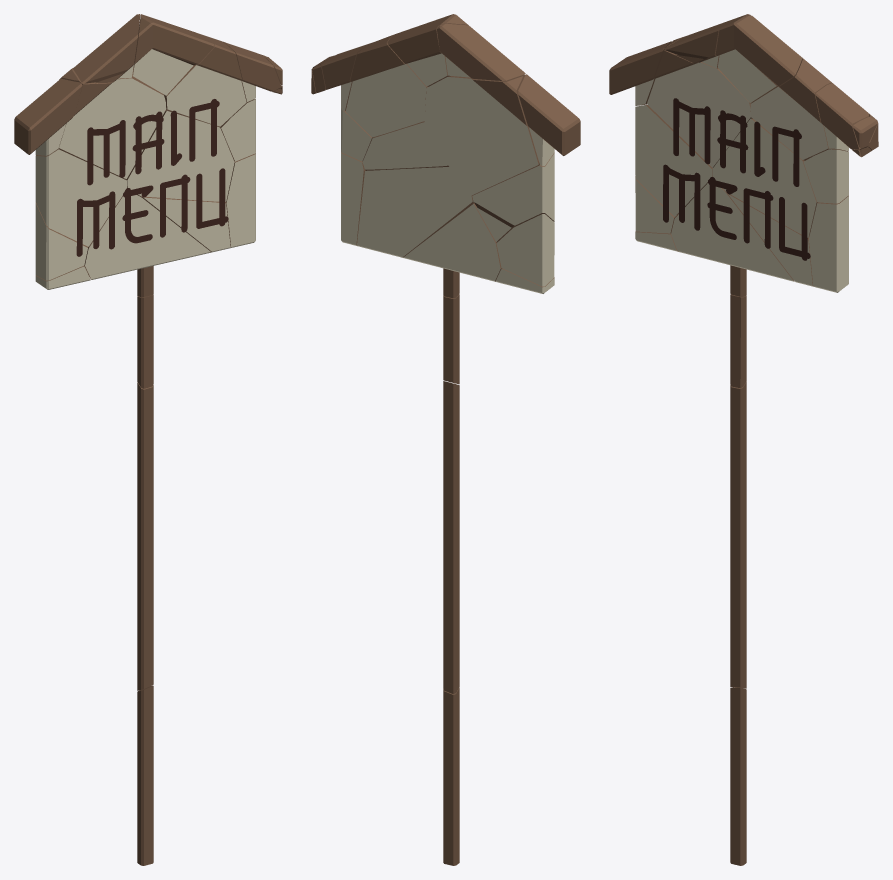
Rendered from bsign-mainmenu.fbx.
The picture shows the model from 3 angles, left to right: view 1: azimuth 30°, elevation 25°; view 2: azimuth 150°, elevation 25°; view 3: azimuth 330°, elevation 25°; orthographic projection.
Visible parts, largest first — view 1: sign_mainmenu01.006, sign_mainmenu01.001_cell.028, sign_mainmenu01.001_cell.026, sign_mainmenu01.001_cell.025, sign_mainmenu01.001_cell.017, sign_mainmenu01.001_cell.039, sign_mainmenu01.001_cell.042, sign_mainmenu01.001_cell.027, sign_mainmenu01.001_cell.043, sign_mainmenu01.001_cell.010, sign_mainmenu01.001_cell.012, sign_mainmenu01.001_cell.031 (+5 smaller); view 2: sign_mainmenu01.001_cell.028, sign_mainmenu01.001_cell.027, sign_mainmenu01.001_cell.039, sign_mainmenu01.001_cell.017, sign_mainmenu01.001_cell.026, sign_mainmenu01.001_cell.025, sign_mainmenu01.001_cell.043, sign_mainmenu01.001_cell.012, sign_mainmenu01.001_cell.009, sign_mainmenu01.001_cell.010, sign_mainmenu01.006, sign_mainmenu01.001_cell.042 (+5 smaller); view 3: sign_mainmenu01.006, sign_mainmenu01.001_cell.028, sign_mainmenu01.001_cell.026, sign_mainmenu01.001_cell.025, sign_mainmenu01.001_cell.017, sign_mainmenu01.001_cell.042, sign_mainmenu01.001_cell.039, sign_mainmenu01.001_cell.027, sign_mainmenu01.001_cell.031, sign_mainmenu01.001_cell.010, sign_mainmenu01.001_cell.023, sign_mainmenu01.001_cell.043 (+5 smaller).
Boxes of the visible parts, bbox=[...] form: sign_mainmenu01.006: bbox=[126, 99, 234, 201]; sign_mainmenu01.001_cell.028: bbox=[57, 67, 166, 185]; sign_mainmenu01.001_cell.026: bbox=[84, 185, 210, 297]; sign_mainmenu01.001_cell.025: bbox=[35, 149, 126, 256]; sign_mainmenu01.001_cell.017: bbox=[137, 382, 153, 690]; sign_mainmenu01.001_cell.039: bbox=[163, 31, 246, 126]; sign_mainmenu01.001_cell.042: bbox=[133, 14, 214, 95]; sign_mainmenu01.001_cell.027: bbox=[137, 168, 230, 252]; sign_mainmenu01.001_cell.043: bbox=[14, 78, 82, 155]; sign_mainmenu01.001_cell.010: bbox=[137, 685, 153, 865]; sign_mainmenu01.001_cell.012: bbox=[73, 14, 140, 83]; sign_mainmenu01.001_cell.031: bbox=[226, 153, 255, 247]; sign_mainmenu01.001_cell.028: bbox=[424, 74, 539, 195]; sign_mainmenu01.001_cell.027: bbox=[357, 167, 472, 257]; sign_mainmenu01.001_cell.039: bbox=[345, 35, 427, 137]; sign_mainmenu01.001_cell.017: bbox=[443, 381, 459, 694]; sign_mainmenu01.001_cell.026: bbox=[401, 200, 501, 298]; sign_mainmenu01.001_cell.025: bbox=[472, 152, 554, 229]; sign_mainmenu01.001_cell.043: bbox=[518, 74, 580, 166]; sign_mainmenu01.001_cell.012: bbox=[437, 23, 525, 80]; sign_mainmenu01.001_cell.009: bbox=[496, 214, 554, 286]; sign_mainmenu01.001_cell.010: bbox=[443, 687, 459, 865]; sign_mainmenu01.006: bbox=[362, 121, 448, 170]; sign_mainmenu01.001_cell.042: bbox=[387, 14, 468, 86]; sign_mainmenu01.006: bbox=[712, 110, 817, 237]; sign_mainmenu01.001_cell.028: bbox=[647, 37, 752, 167]; sign_mainmenu01.001_cell.026: bbox=[671, 177, 794, 296]; sign_mainmenu01.001_cell.025: bbox=[635, 105, 712, 230]; sign_mainmenu01.001_cell.017: bbox=[730, 381, 746, 688]; sign_mainmenu01.001_cell.042: bbox=[715, 15, 802, 102]; sign_mainmenu01.001_cell.039: bbox=[750, 58, 833, 160]; sign_mainmenu01.001_cell.027: bbox=[728, 188, 814, 286]; sign_mainmenu01.001_cell.031: bbox=[809, 195, 848, 292]; sign_mainmenu01.001_cell.010: bbox=[730, 687, 746, 865]; sign_mainmenu01.001_cell.023: bbox=[815, 83, 868, 151]; sign_mainmenu01.001_cell.043: bbox=[609, 41, 671, 105].
Size of the model in its own units: 78.58 by 248 by 9.78.
